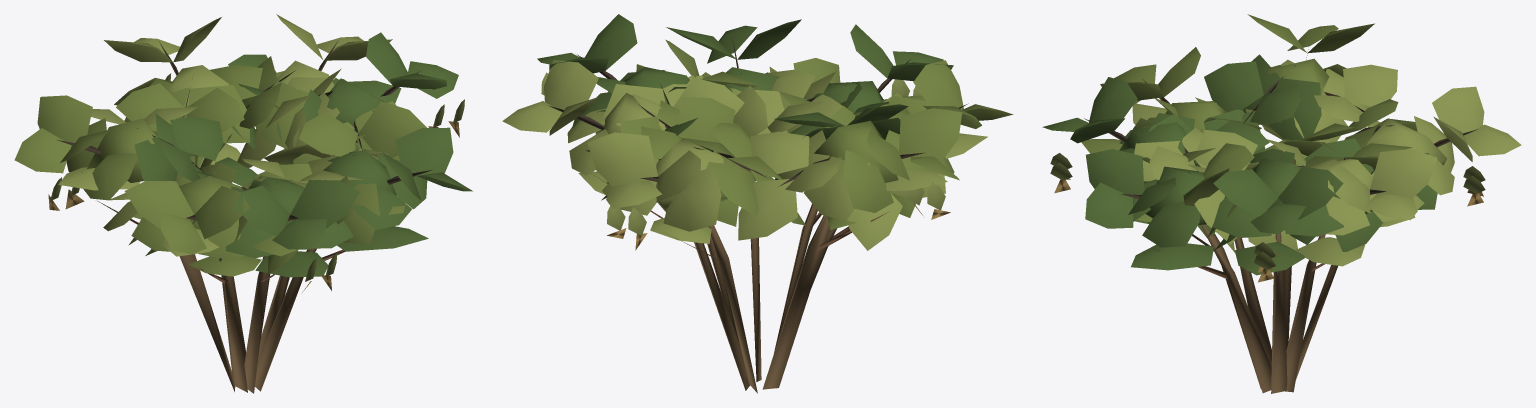
The model's file is woodland_bush_hazel.glb.
3 renders of one model, left to right at view 1: azimuth 30°, elevation 25°; view 2: azimuth 150°, elevation 25°; view 3: azimuth 270°, elevation 25°, orthographic. The views are drawn at different scales.
Visible parts, largest first — view 1: body; view 2: body; view 3: body.
Part boxes in pixels (left/top/right/bottom): body: left=14, top=14, right=472, bottom=393; body: left=502, top=14, right=1013, bottom=393; body: left=1042, top=14, right=1521, bottom=393.
Bounding box in the file's own units: 1.57 × 1.05 × 1.55.
